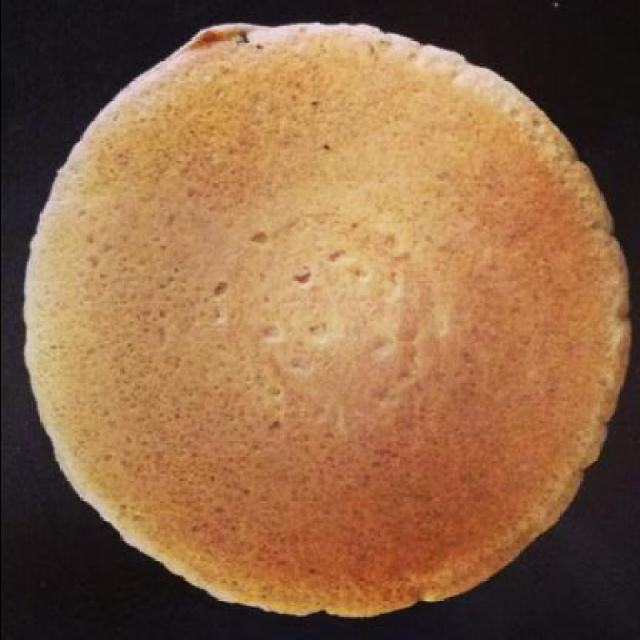Pancake: (60, 4, 638, 638)
